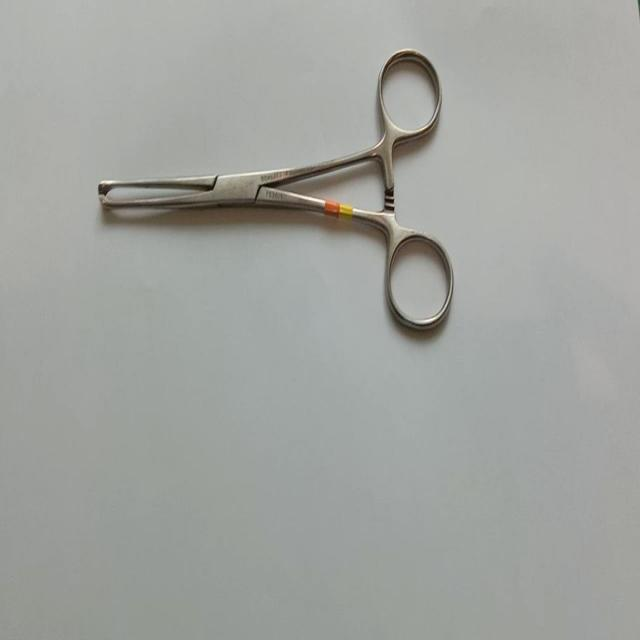AllisForcep: (95, 46, 456, 338)
